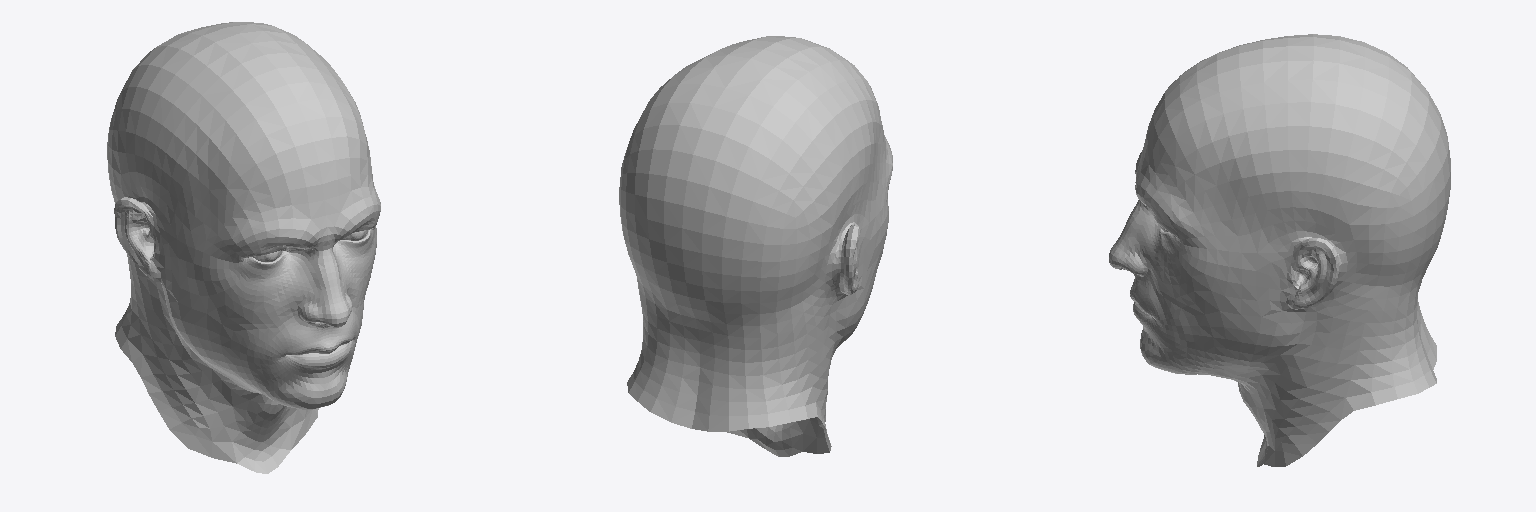
Rendered from model_translated.obj.
The picture shows the model from 3 angles: view 1: azimuth 30°, elevation 25°; view 2: azimuth 150°, elevation 25°; view 3: azimuth 270°, elevation 25°; orthographic projection.
Visible parts, largest first — view 1: man_body_0014_uv_map_man_body_0014_uv_map.001; view 2: man_body_0014_uv_map_man_body_0014_uv_map.001; view 3: man_body_0014_uv_map_man_body_0014_uv_map.001.
Part boxes in pixels (bbox=[...]): man_body_0014_uv_map_man_body_0014_uv_map.001: bbox=[107, 22, 380, 473]; man_body_0014_uv_map_man_body_0014_uv_map.001: bbox=[619, 36, 892, 456]; man_body_0014_uv_map_man_body_0014_uv_map.001: bbox=[1109, 34, 1450, 466].
Bounding box in the file's own units: 0.1767 × 0.3092 × 0.2288.